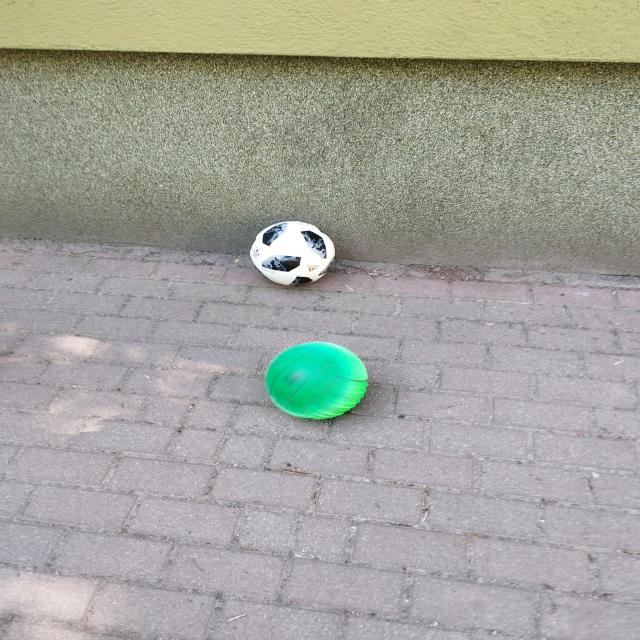nozna: (250, 221, 336, 286)
zielona: (265, 341, 368, 420)
